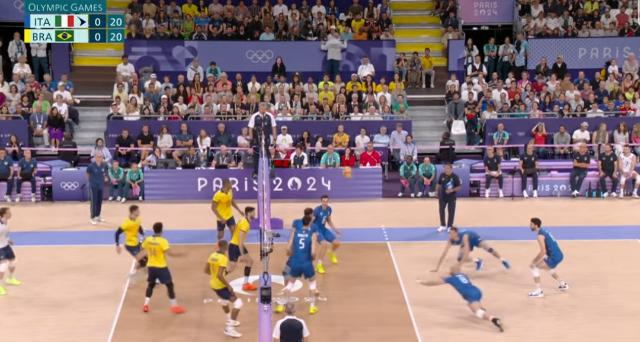Levantador: (142, 222, 178, 312), (313, 193, 337, 259)
Libero: (0, 205, 14, 293)
bola: (342, 168, 352, 179)
